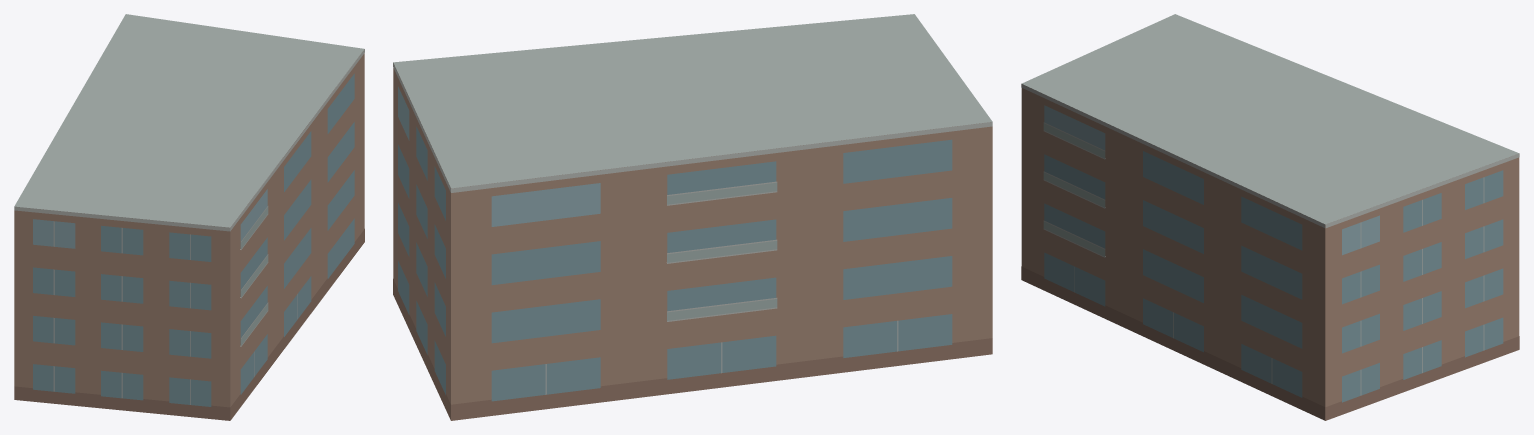
File: residential-f7d60097-cb74-4aad-a821-8ca19bda334d.glb
The picture shows the model from 3 angles, left to right: view 1: azimuth 30°, elevation 25°; view 2: azimuth 150°, elevation 25°; view 3: azimuth 270°, elevation 25°; orthographic projection. The views are drawn at different scales.
Visible parts, largest first — view 1: residential-f7d60097-cb74-4aad-a821-8ca19bda334d.tmp; view 2: residential-f7d60097-cb74-4aad-a821-8ca19bda334d.tmp; view 3: residential-f7d60097-cb74-4aad-a821-8ca19bda334d.tmp.
Boxes of the visible parts, box(x1,y1,x2,y2) form: residential-f7d60097-cb74-4aad-a821-8ca19bda334d.tmp: box(14, 14, 364, 420); residential-f7d60097-cb74-4aad-a821-8ca19bda334d.tmp: box(393, 14, 992, 420); residential-f7d60097-cb74-4aad-a821-8ca19bda334d.tmp: box(1021, 14, 1519, 420).
Size of the model in its own units: 28.05 by 12.2 by 28.04.
